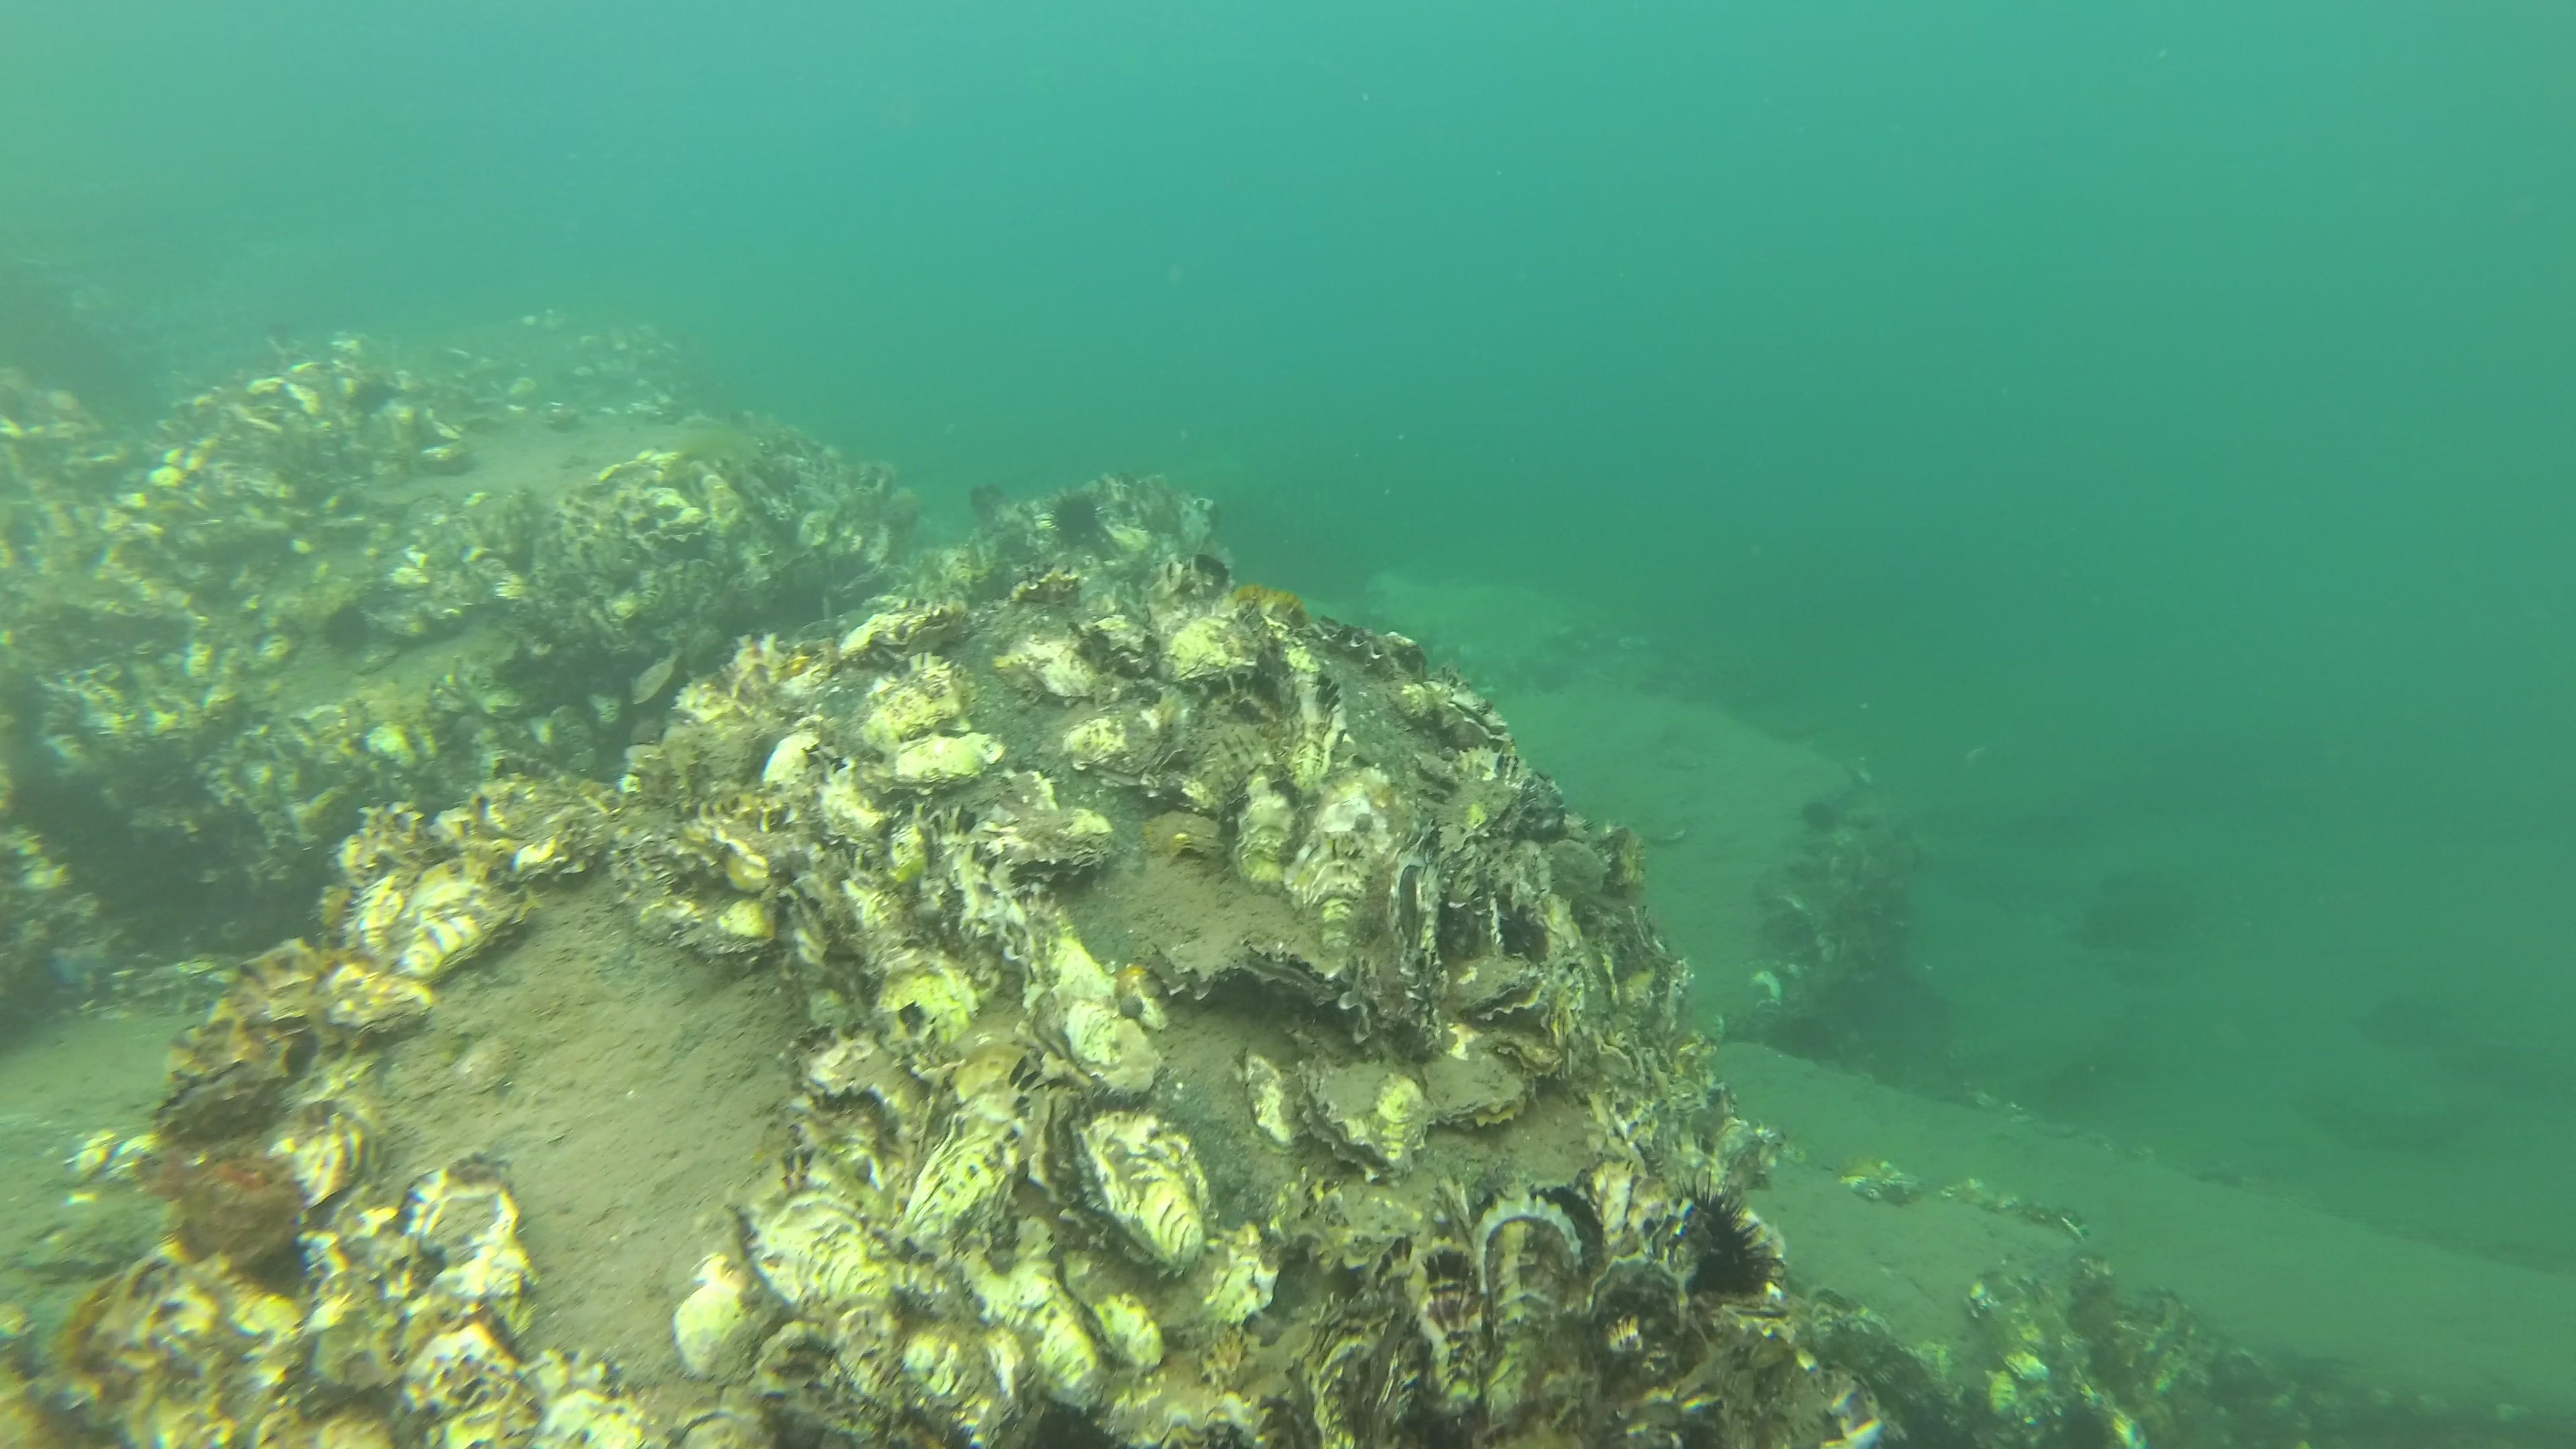echinus: (1667, 1161, 1787, 1307), (1044, 487, 1118, 563), (310, 594, 384, 671)
